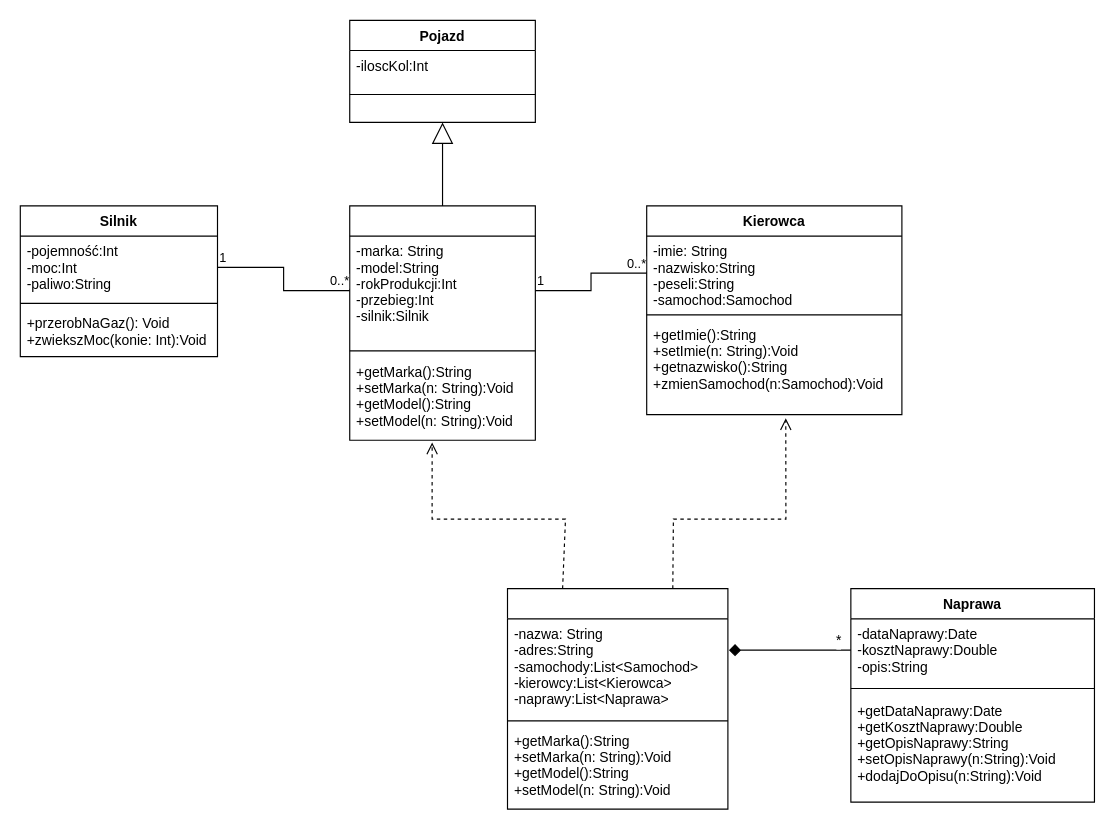
The diagram is 1115 pixels wide and 833 high, and some of its shapes have lost their labels. The box of each missing label's shape, as (x1, y1, x2, y2) in pixels:
Samochod: (349, 205, 535, 440)
Serwis: (506, 588, 728, 809)
